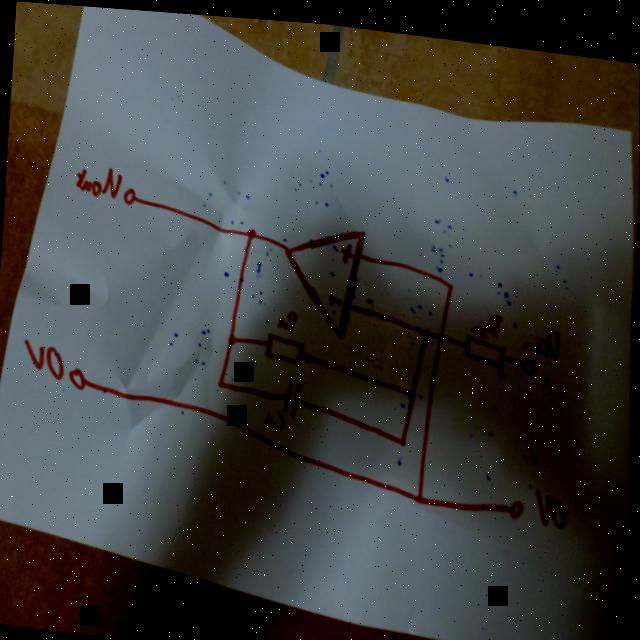capacitor: (282, 371, 306, 413)
crossover: (436, 323, 447, 336)
junction: (246, 221, 259, 237), (407, 379, 418, 396), (228, 328, 239, 344), (415, 483, 426, 499), (217, 372, 228, 388), (422, 319, 433, 334), (399, 427, 409, 442), (447, 274, 457, 284)
resistor: (264, 326, 308, 362), (464, 327, 507, 360)
terminal: (69, 364, 88, 390), (508, 489, 527, 513), (522, 345, 539, 369), (123, 182, 138, 204)
text: (23, 337, 68, 382), (74, 162, 125, 199), (534, 478, 570, 522), (522, 317, 562, 350), (472, 303, 505, 334), (265, 402, 288, 426), (279, 303, 300, 329)
